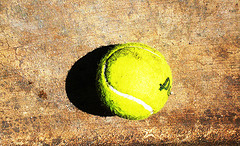tennis ball: (94, 42, 173, 120)
